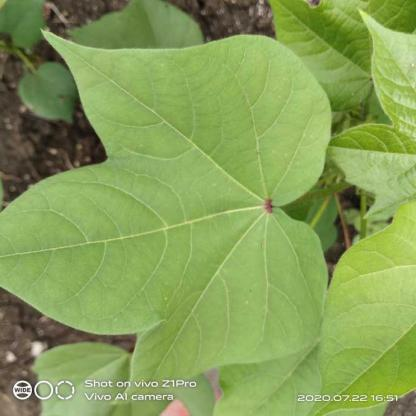cotton: (8, 23, 341, 386)
